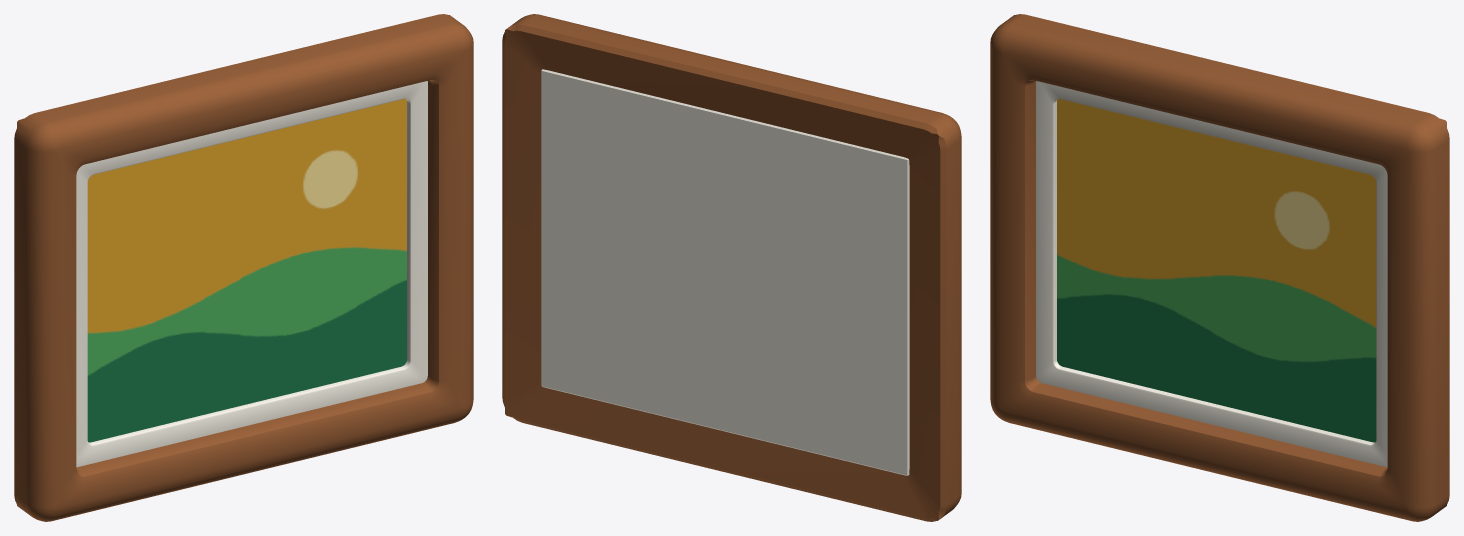
Rendered from quadro_colinas_douradas.glb.
The picture shows the model from 3 angles, left to right: view 1: azimuth 30°, elevation 25°; view 2: azimuth 150°, elevation 25°; view 3: azimuth 330°, elevation 25°; orthographic projection.
Visible parts, largest first — view 1: quadro_colinas_douradas; view 2: quadro_colinas_douradas; view 3: quadro_colinas_douradas.
Boxes of the visible parts, box(x1,y1,x2,y2) form: quadro_colinas_douradas: box(14, 14, 473, 521); quadro_colinas_douradas: box(502, 14, 961, 521); quadro_colinas_douradas: box(990, 14, 1449, 521).
Size of the model in its own units: 0.304 by 0.26 by 0.03.
Materials: 2 (2 with a texture image).
